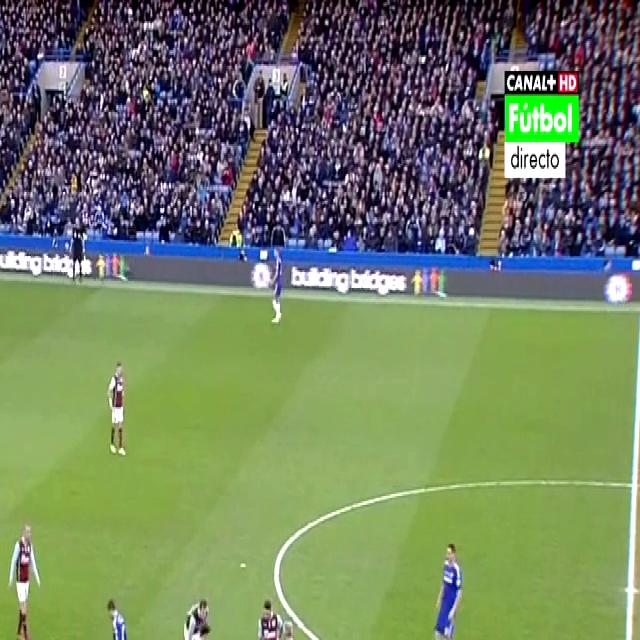referee: (67, 205, 95, 295), (275, 620, 309, 640)
soccer-player: (1, 514, 44, 640), (428, 531, 468, 640), (101, 349, 132, 466), (177, 579, 213, 640), (100, 588, 133, 640), (266, 240, 284, 332), (251, 592, 280, 640), (180, 617, 215, 640), (485, 634, 532, 640)
